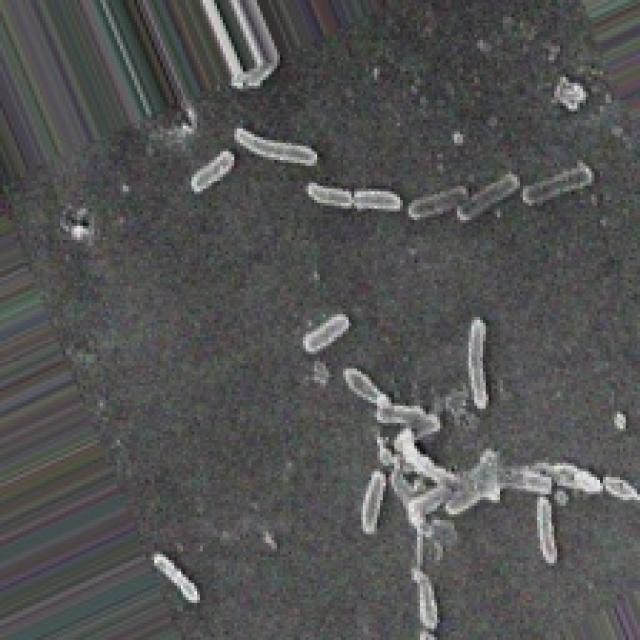Rod_bacteria: (314, 309, 637, 637)
